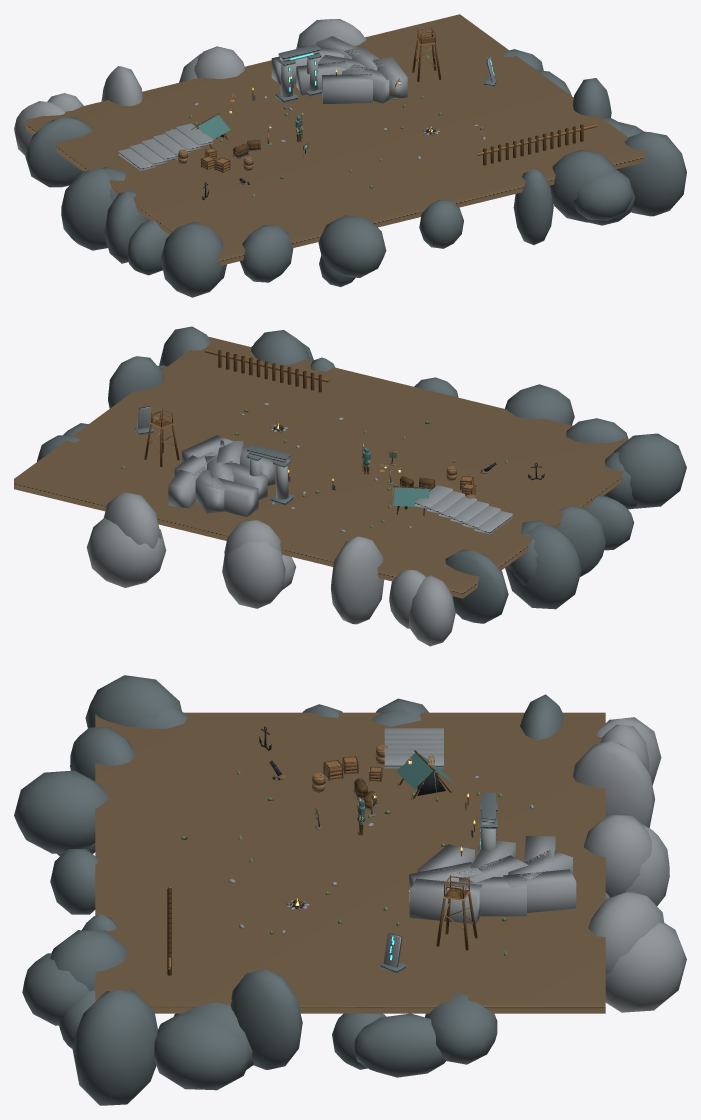
File: 3D模型 scene_camp_cliff.glb
3 renders of one model, top to bottom at view 1: azimuth 30°, elevation 25°; view 2: azimuth 150°, elevation 25°; view 3: azimuth 270°, elevation 25°, orthographic. The views are drawn at different scales.
Parts seen in each view (by area): view 1: cliff_top, cliff_rock_07, cliff_rock_02, cliff_rock_05, cliff_rock_26, cliff_rock_22, cliff_rock_25, cliff_rock_17, cliff_rock_09, cliff_rock_21, cliff_rock_10, cliff_rock_01 (+16 smaller); view 2: cliff_top, cliff_rock_26, cliff_rock_02, cliff_rock_12, cliff_rock_16, cliff_rock_04, cliff_rock_22, cliff_rock_28, cliff_rock_24, cliff_rock_10, cliff_rock_05, cliff_rock_23 (+17 smaller); view 3: cliff_top, cliff_rock_07, cliff_rock_05, cliff_rock_15, cliff_rock_23, cliff_rock_16, cliff_rock_19, cliff_rock_12, cliff_rock_00, cliff_rock_27, cliff_rock_24, cliff_rock_02 (+22 smaller).
Boxes of the visible parts, x1=… form: cliff_top: x1=26, y1=14, x2=647, y2=265; cliff_rock_07: x1=617, y1=131, x2=686, y2=216; cliff_rock_02: x1=160, y1=221, x2=225, y2=297; cliff_rock_05: x1=318, y1=215, x2=386, y2=277; cliff_rock_26: x1=61, y1=168, x2=112, y2=250; cliff_rock_22: x1=25, y1=117, x2=92, y2=187; cliff_rock_25: x1=550, y1=150, x2=615, y2=222; cliff_rock_17: x1=240, y1=225, x2=293, y2=282; cliff_rock_09: x1=513, y1=169, x2=553, y2=245; cliff_rock_21: x1=573, y1=169, x2=633, y2=220; cliff_rock_10: x1=104, y1=190, x2=149, y2=263; cliff_rock_01: x1=419, y1=199, x2=463, y2=248; cliff_top: x1=14, y1=336, x2=628, y2=598; cliff_rock_26: x1=505, y1=525, x2=581, y2=609; cliff_rock_02: x1=613, y1=433, x2=686, y2=508; cliff_rock_12: x1=331, y1=536, x2=384, y2=624; cliff_rock_16: x1=86, y1=517, x2=166, y2=587; cliff_rock_04: x1=222, y1=541, x2=285, y2=608; cliff_rock_22: x1=445, y1=549, x2=508, y2=623; cliff_rock_28: x1=409, y1=575, x2=455, y2=646; cliff_rock_24: x1=103, y1=492, x2=160, y2=548; cliff_rock_10: x1=557, y1=506, x2=605, y2=576; cliff_rock_05: x1=505, y1=384, x2=574, y2=425; cliff_rock_23: x1=108, y1=356, x2=163, y2=408; cliff_top: x1=95, y1=712, x2=605, y2=1013; cliff_rock_07: x1=72, y1=989, x2=157, y2=1105; cliff_rock_05: x1=14, y1=770, x2=108, y2=853; cliff_rock_15: x1=154, y1=1012, x2=249, y2=1090; cliff_rock_23: x1=230, y1=969, x2=302, y2=1069; cliff_rock_16: x1=605, y1=923, x2=686, y2=1012; cliff_rock_19: x1=353, y1=1013, x2=446, y2=1077; cliff_rock_12: x1=573, y1=741, x2=654, y2=827; cliff_rock_00: x1=583, y1=814, x2=652, y2=897; cliff_rock_27: x1=425, y1=993, x2=497, y2=1064; cliff_rock_24: x1=588, y1=890, x2=664, y2=973; cliff_rock_02: x1=85, y1=675, x2=181, y2=727.
Size of the model in its own units: 37.76 by 8.36 by 31.64.
